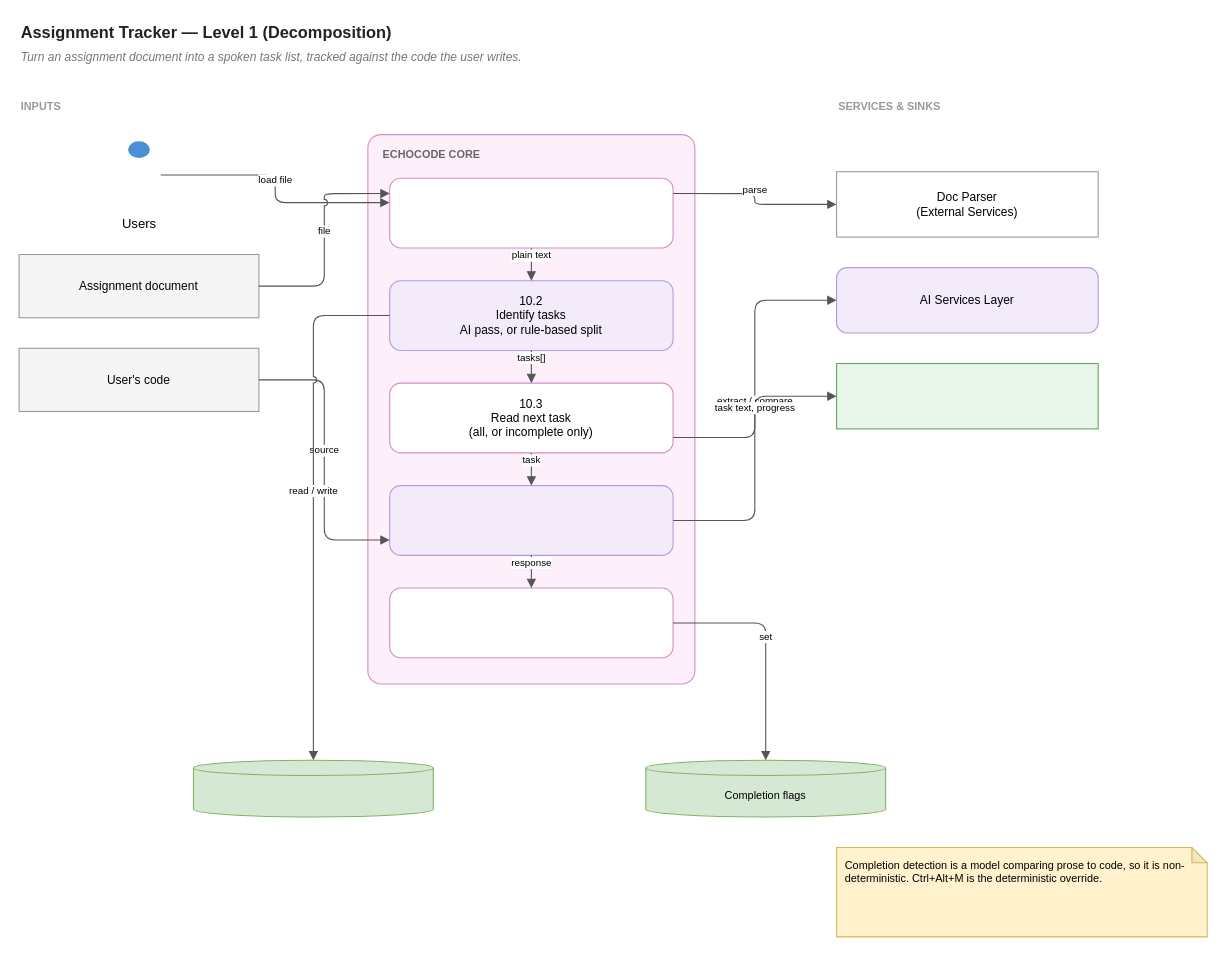
The diagram is 1226 pixels wide and 956 high, and some of its shapes have lost their labels. Each missing label, with the centre of its shape:
"10.1 Extract document text mammoth / pdf-parse" belongs at point 531,212.
"10.4 Rescan code against tasks analyzeAI()" belongs at point 531,520.
"10.5 Update completion flags updateCompletedTasksFromAI()" belongs at point 531,622.
"Speech Output / TTS" belongs at point 966,395.
"Task list + index (in memory, lost on reload)" belongs at point 312,788.
